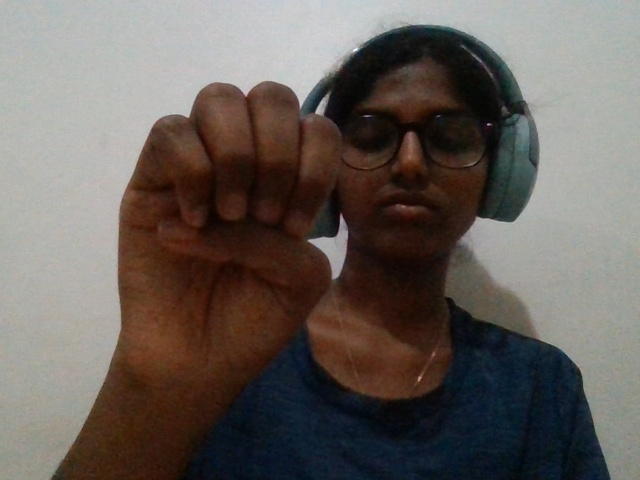E: (92, 68, 362, 458)
